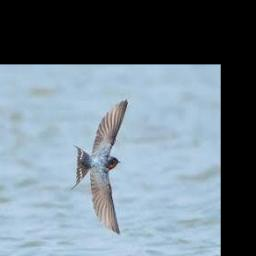Swallow: (68, 99, 127, 235)
